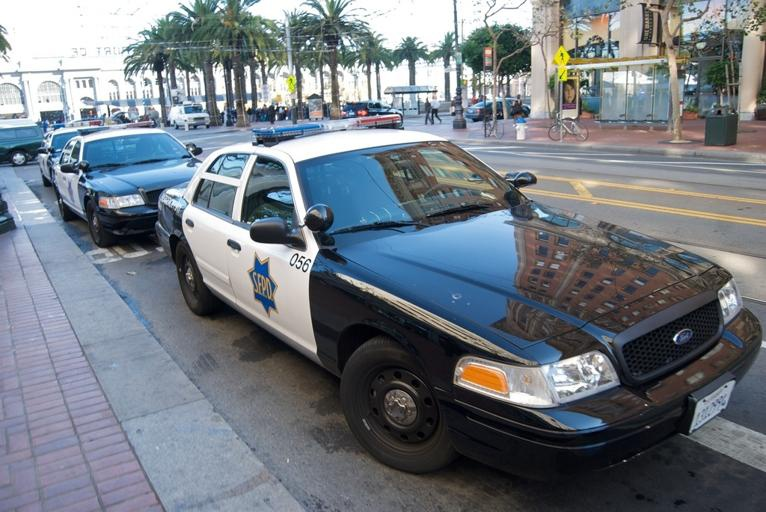non-vehicle: (548, 113, 589, 142), (481, 113, 505, 140)
